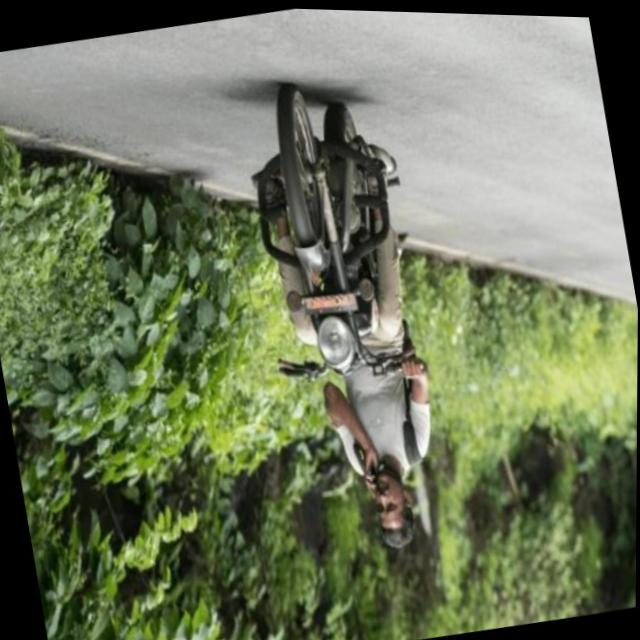USING_MOBILE: (316, 371, 382, 509)
